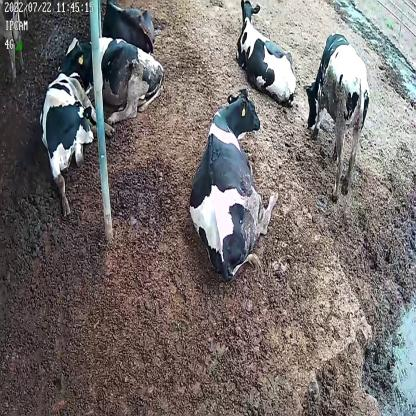cow: (187, 86, 281, 282), (41, 70, 114, 221), (305, 32, 371, 198), (55, 33, 163, 127), (233, 0, 296, 108)
